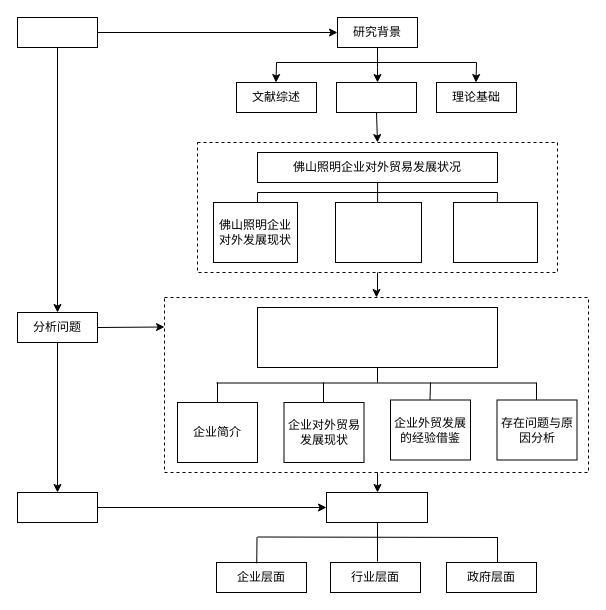
Image size: 606x610. Some labels were removed from this diagram. The centre of each missing label's shape, as x and y in pixels:
"佛山照明产业国际竞争力分析" goes at (x=378, y=232).
"存在的问题与原因" goes at (x=495, y=232).
"对策建议" goes at (x=377, y=507).
"提出问题" goes at (x=57, y=32).
"案例分析：广东佛山HP照明科技有限公司" goes at (x=377, y=337).
"解决问题" goes at (x=57, y=507).
"问题提出" goes at (x=376, y=97).
